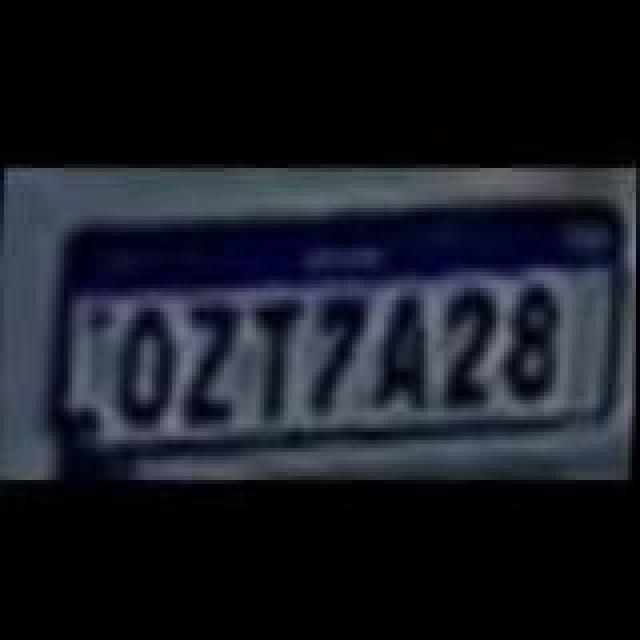2: (420, 278, 500, 406)
7: (302, 286, 374, 418)
8: (492, 272, 564, 408)
A: (364, 280, 436, 412)
O: (110, 302, 182, 438)
T: (240, 292, 308, 424)
Z: (172, 298, 248, 430)
